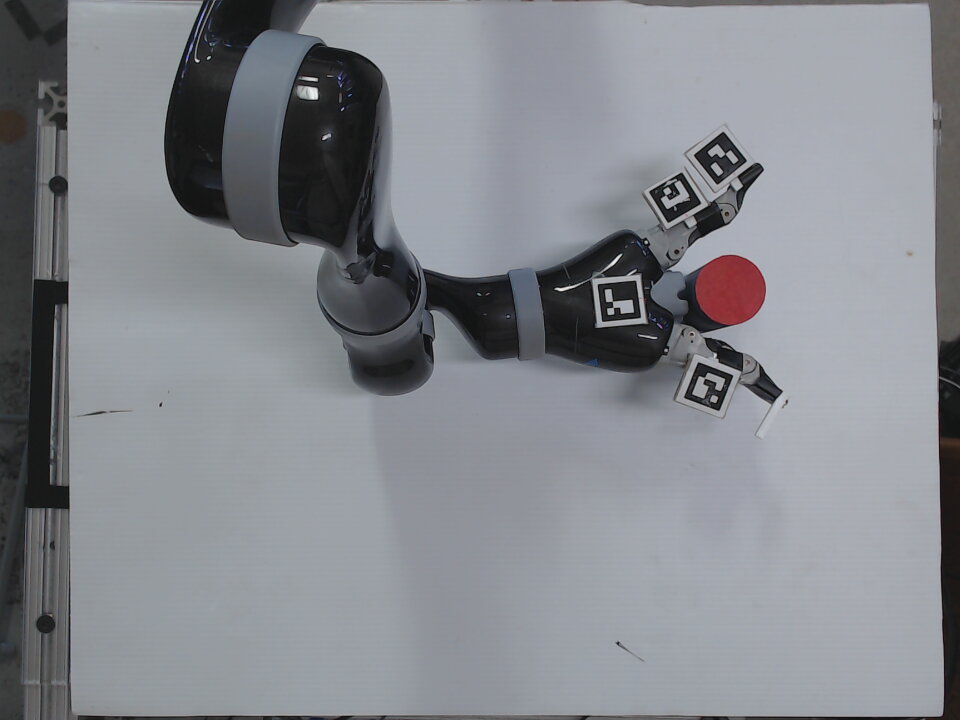cylinder: (684, 252, 770, 336)
